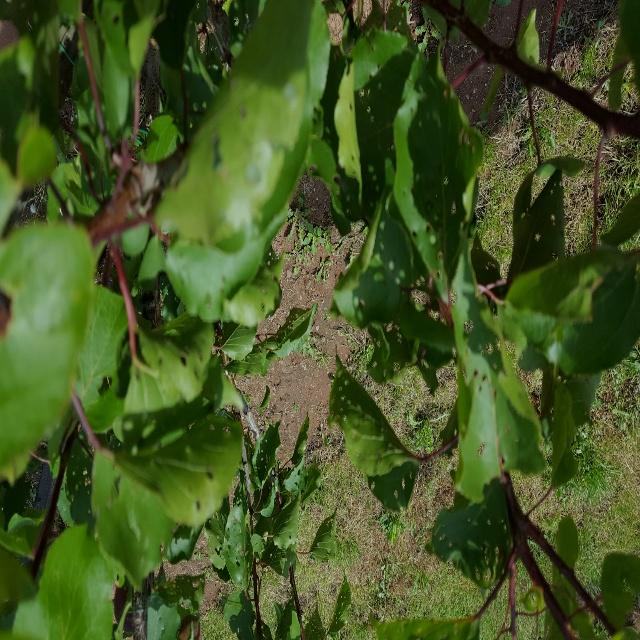shot_hole: (127, 35, 329, 252), (70, 325, 272, 542)
